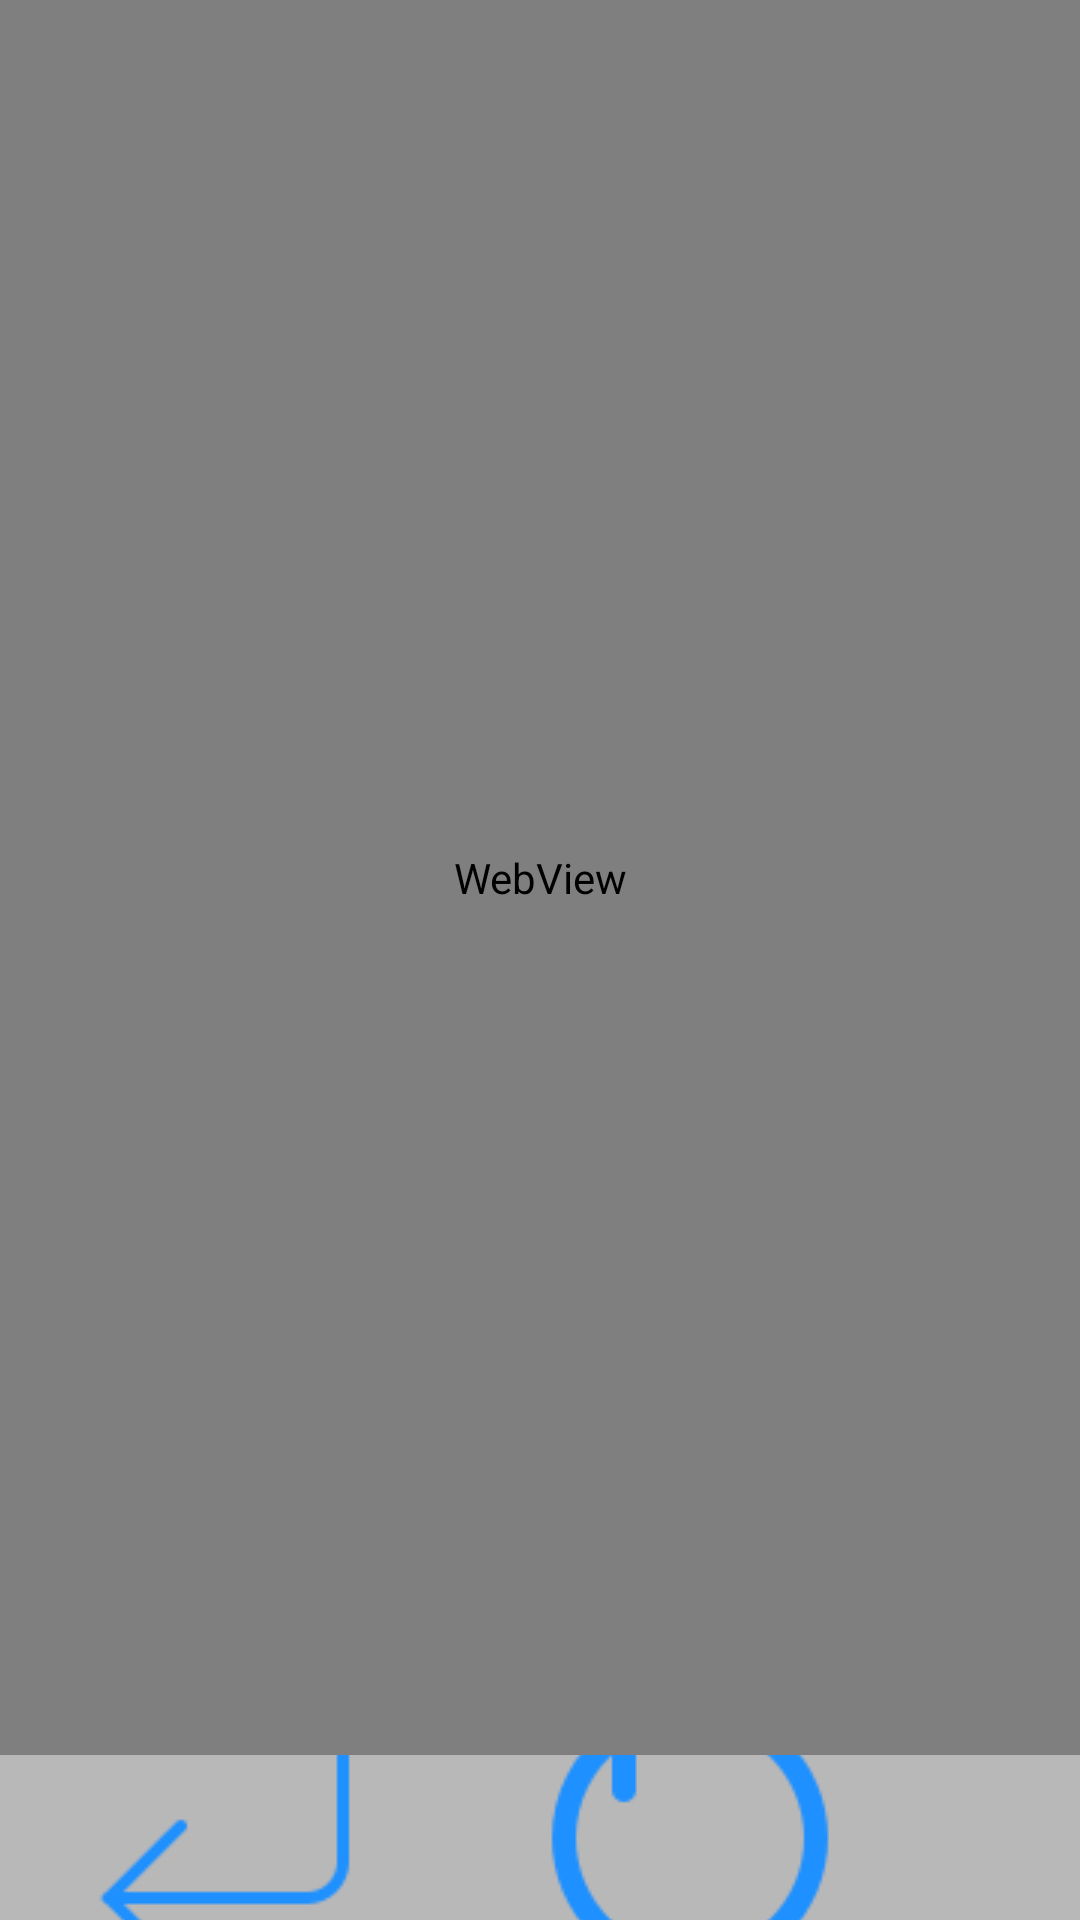

Icon click points for this 1080 × 1920 phone screenshot, format (x=x, y=y):
back: (x=225, y=1837)
